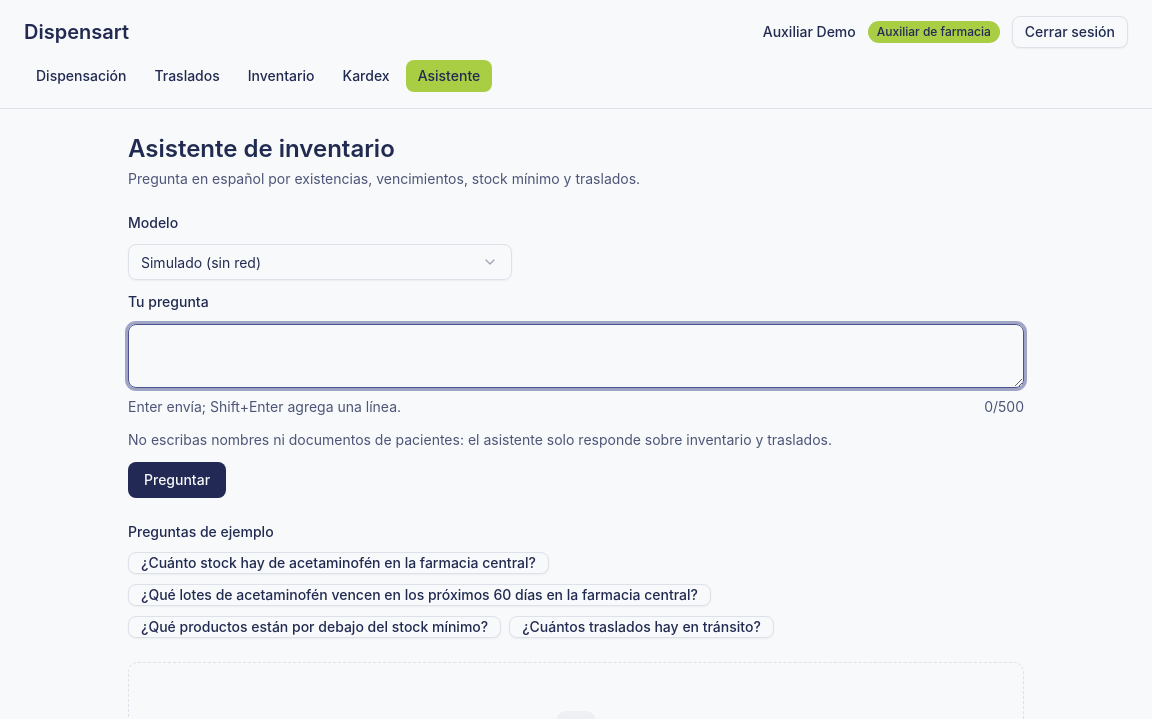
Scenario: Envío de una pregunta › Pregunta demasiado corta: "ab" con Enter muestra el mínimo y no envía
The image size is (1152, 719).
Check: the dropdown labelled "Modelo" is enabled, box left=128, top=244, right=512, bottom=280
Type "ab" into the text box labelled "Tu pregunta".
click(576, 356); type("ab")  # box left=128, top=324, right=1024, bottom=388
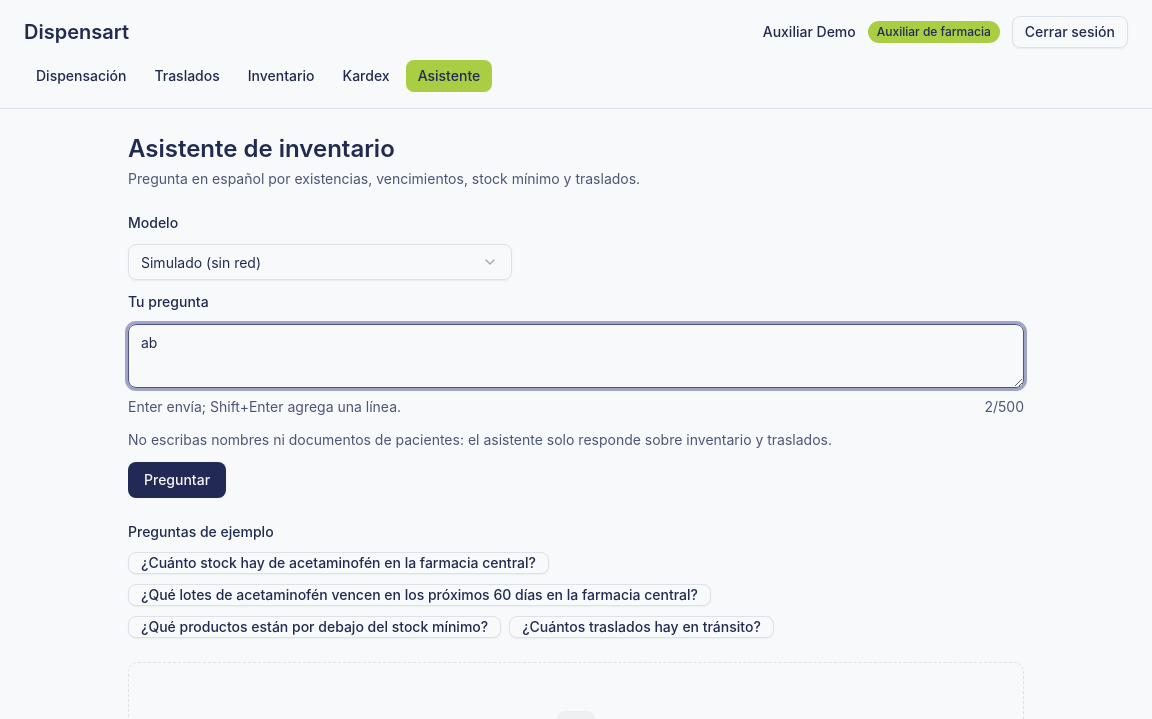
Press Enter in the text box labelled "Tu pregunta", box left=128, top=324, right=1024, bottom=388
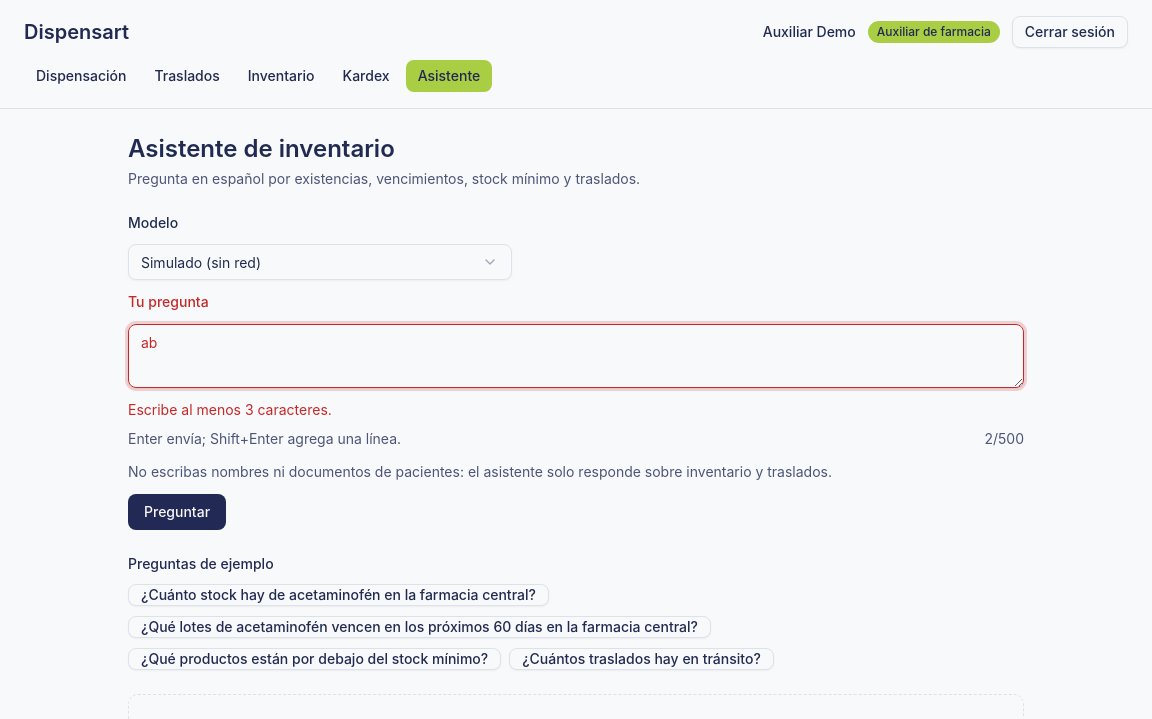
Check: the text "Escribe al menos 3 caracteres." is shown, box left=128, top=400, right=332, bottom=418
